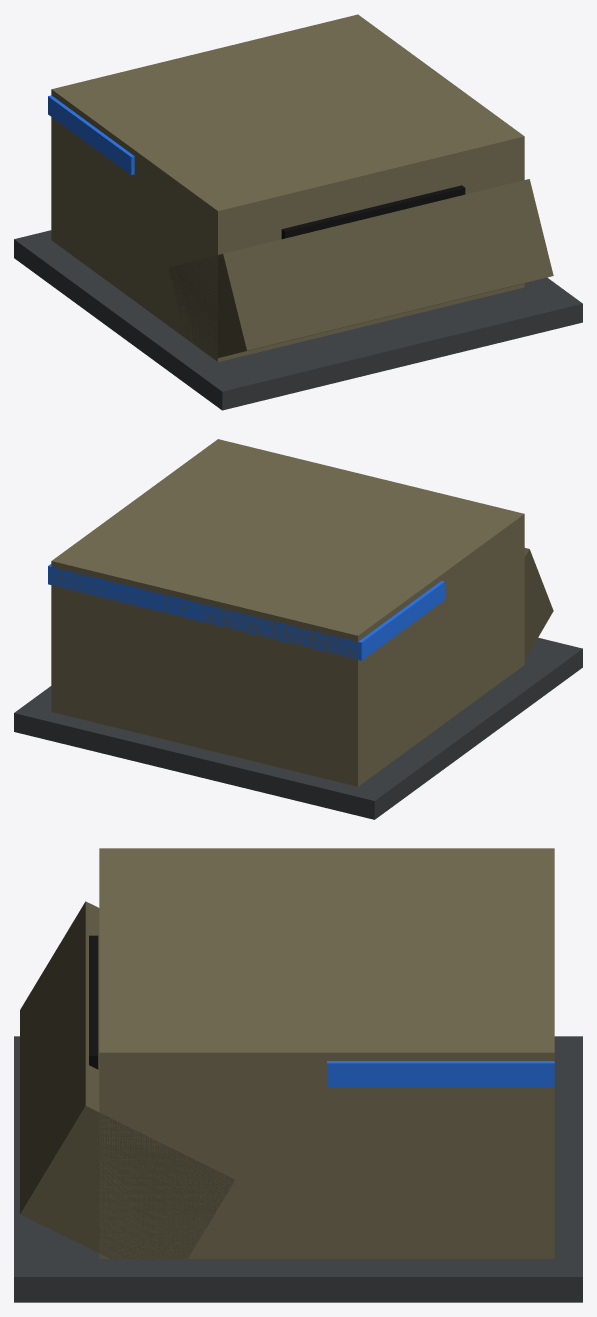
The model's file is us_bunker.glb.
The picture shows the model from 3 angles, top to bottom: view 1: azimuth 30°, elevation 25°; view 2: azimuth 150°, elevation 25°; view 3: azimuth 270°, elevation 25°; orthographic projection. The views are drawn at different scales.
Parts seen in each view (by area): view 1: main, slope, base, slit, team_band; view 2: main, base, team_band, slope; view 3: main, slope, base, team_band, slit.
Part boxes in pixels (x1,y1,x2,y2): main: (51, 14, 524, 361); slope: (168, 179, 553, 358); base: (14, 230, 582, 410); slit: (281, 185, 465, 239); team_band: (48, 95, 134, 175); main: (51, 439, 524, 786); base: (14, 637, 582, 819); team_band: (48, 564, 444, 660); slope: (524, 548, 553, 660); main: (99, 848, 554, 1258); slope: (20, 901, 234, 1258); base: (14, 1036, 582, 1302); team_band: (327, 1061, 554, 1087); slit: (89, 935, 98, 1069).
Size of the model in its own units: 6 by 2.74 by 6.
